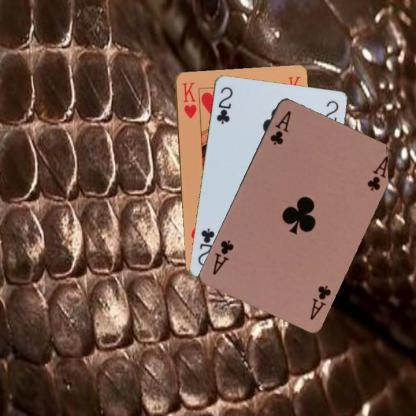2c: (214, 84, 234, 125)
Ac: (307, 282, 332, 321), (267, 108, 292, 146)
Kh: (180, 79, 198, 120)
